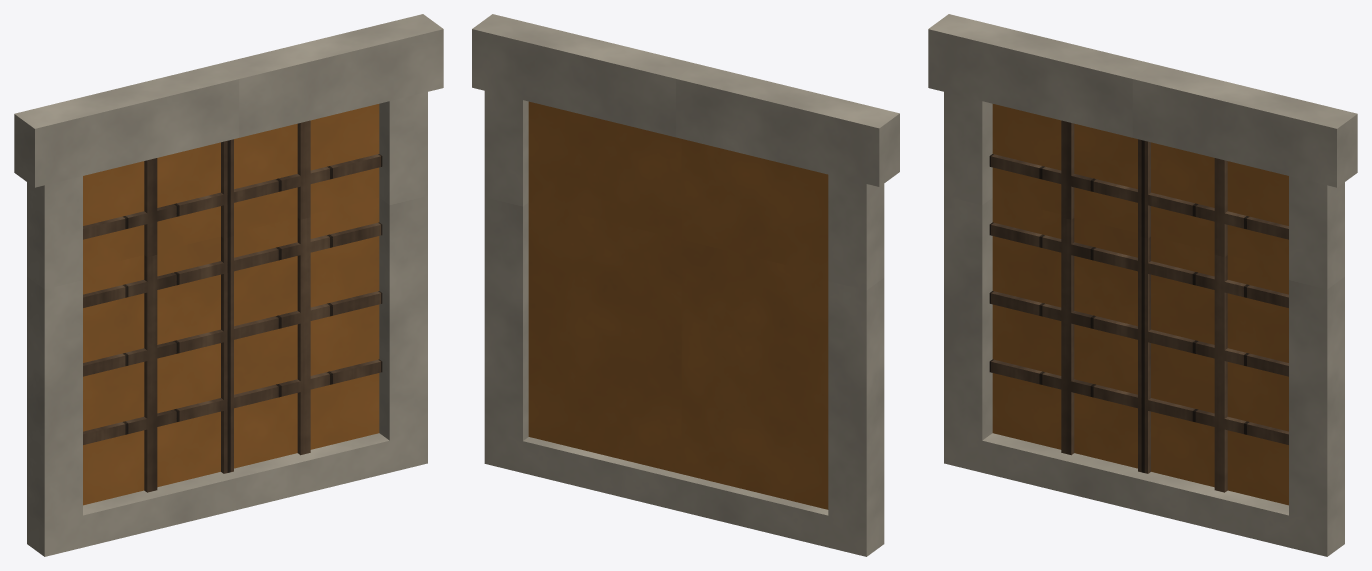
Rendered from Facade_Dwarf_Window_1.gltf.
3 views of the same model, side by side, from view 1: azimuth 30°, elevation 25°; view 2: azimuth 150°, elevation 25°; view 3: azimuth 330°, elevation 25° (orthographic).
Visible parts, largest first — view 1: Facade_Dwarf_Window_1; view 2: Facade_Dwarf_Window_1; view 3: Facade_Dwarf_Window_1.
Part boxes in pixels (box(x1,y1,x2,y2)): Facade_Dwarf_Window_1: box(14, 14, 443, 556); Facade_Dwarf_Window_1: box(472, 14, 899, 556); Facade_Dwarf_Window_1: box(928, 14, 1357, 556).
Bounding box in the file's own units: 1.6 × 1.62 × 0.14.
Materials: 3 (3 with a texture image).
